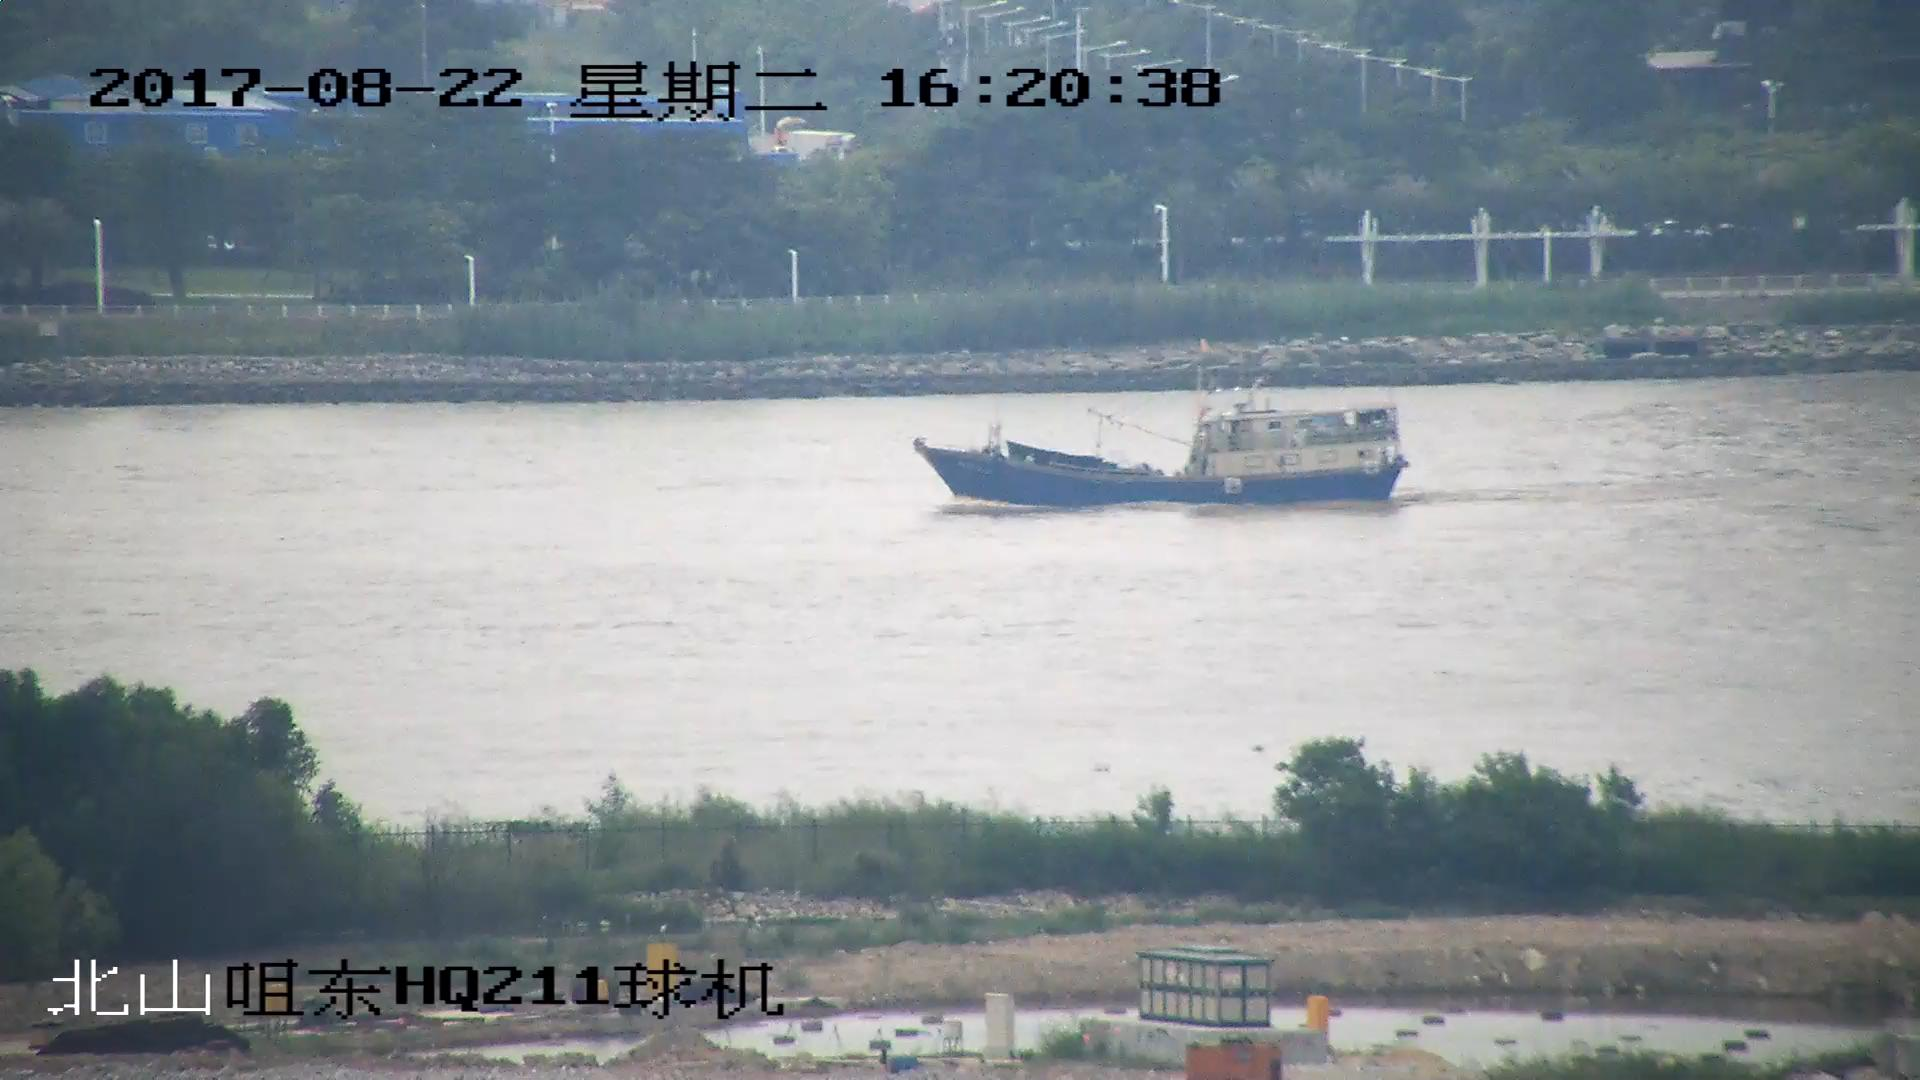fishing boat: (918, 355, 1411, 510)
